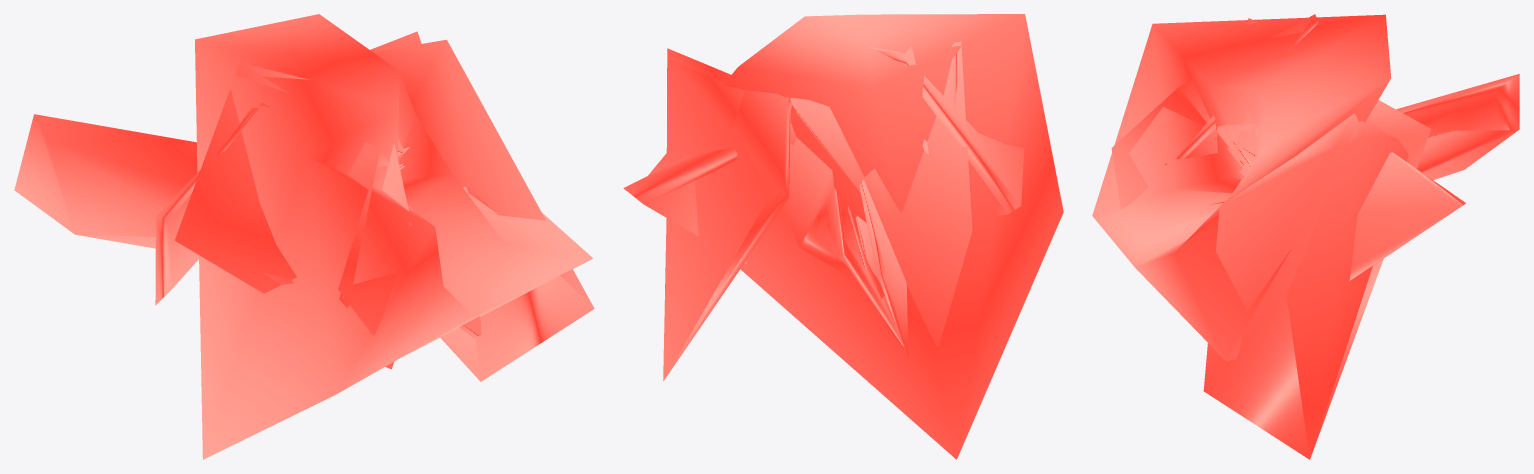
The model's file is FlowernThorn.FBX.
3 renders of one model, left to right at view 1: azimuth 30°, elevation 25°; view 2: azimuth 150°, elevation 25°; view 3: azimuth 270°, elevation 25°, orthographic. The views are drawn at different scales.
Parts seen in each view (by area): view 1: Sphere021; view 2: Sphere021; view 3: Sphere021.
Part boxes in pixels (bbox=[...]): Sphere021: bbox=[14, 14, 594, 459]; Sphere021: bbox=[623, 14, 1063, 459]; Sphere021: bbox=[1092, 14, 1519, 459].
Size of the model in its own units: 29 by 25.45 by 28.34.
